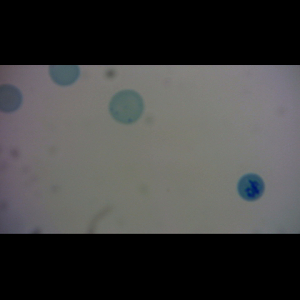aggregate reticulocyte: (237, 172, 265, 202)
punctate reticulocyte: (108, 89, 145, 125)
